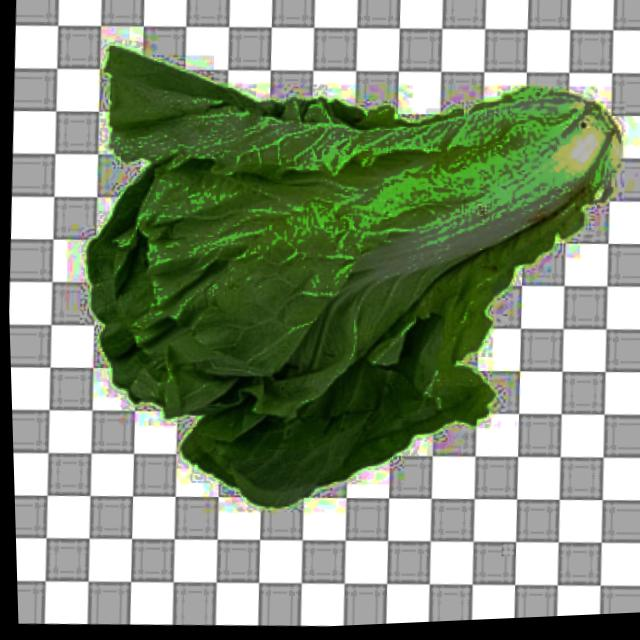chinese_cabbage: (106, 51, 637, 512)
